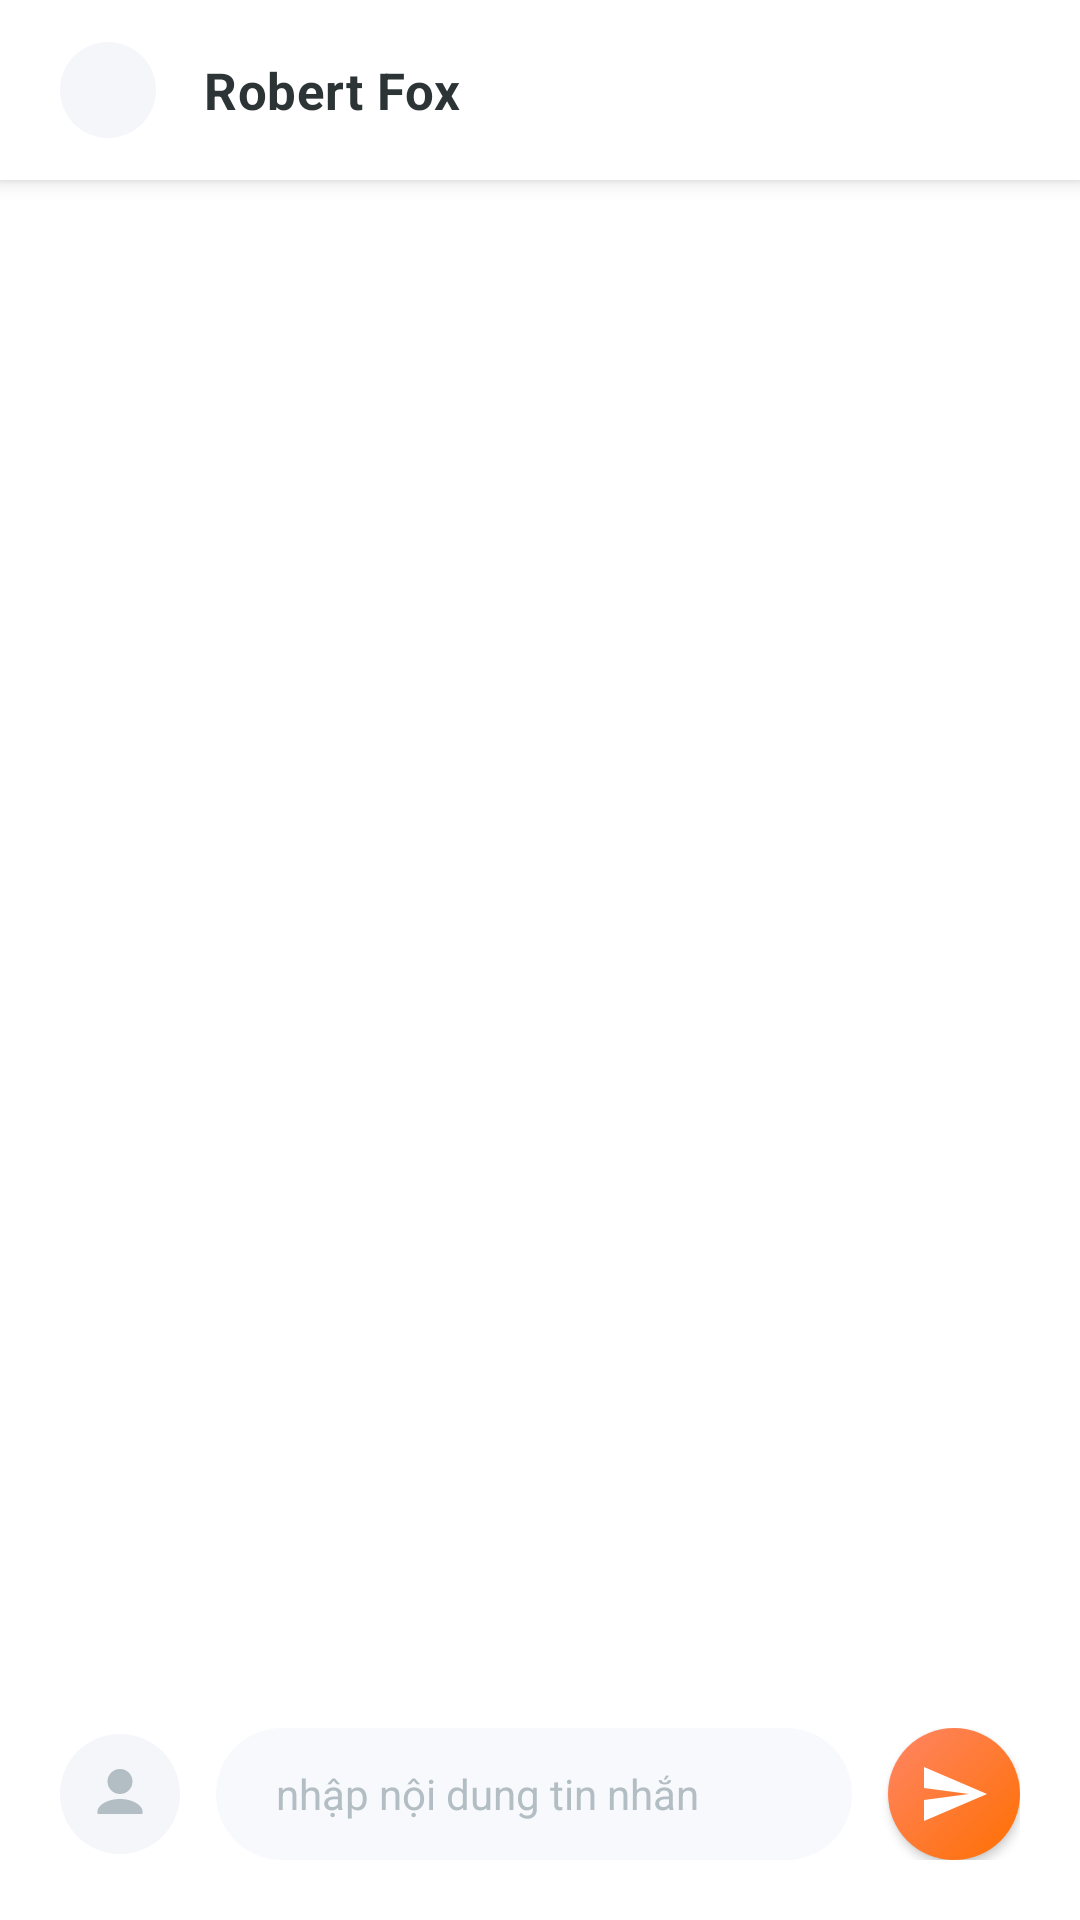

Icon click points for this 1080 × 1920 phone screenshot, format (x,y):
Profile: (120,1791)
Send: (954,1794)
